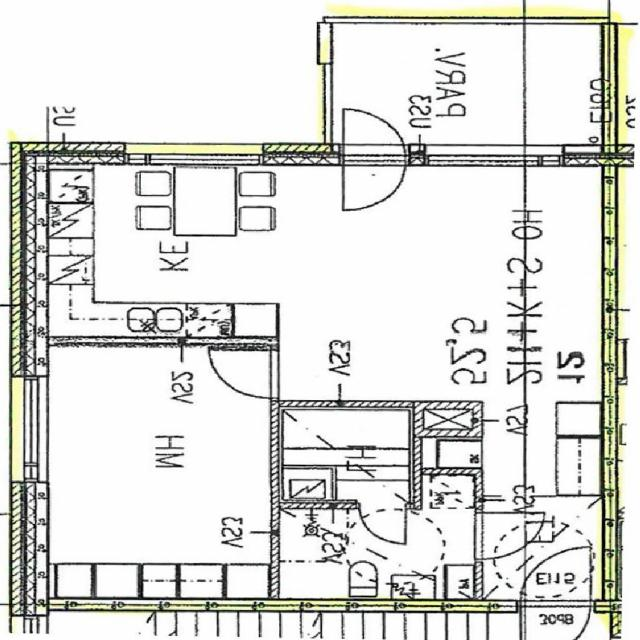door: (520, 543, 590, 611), (344, 142, 404, 212), (344, 95, 404, 164), (207, 349, 280, 397), (473, 512, 542, 559), (360, 500, 406, 545)
